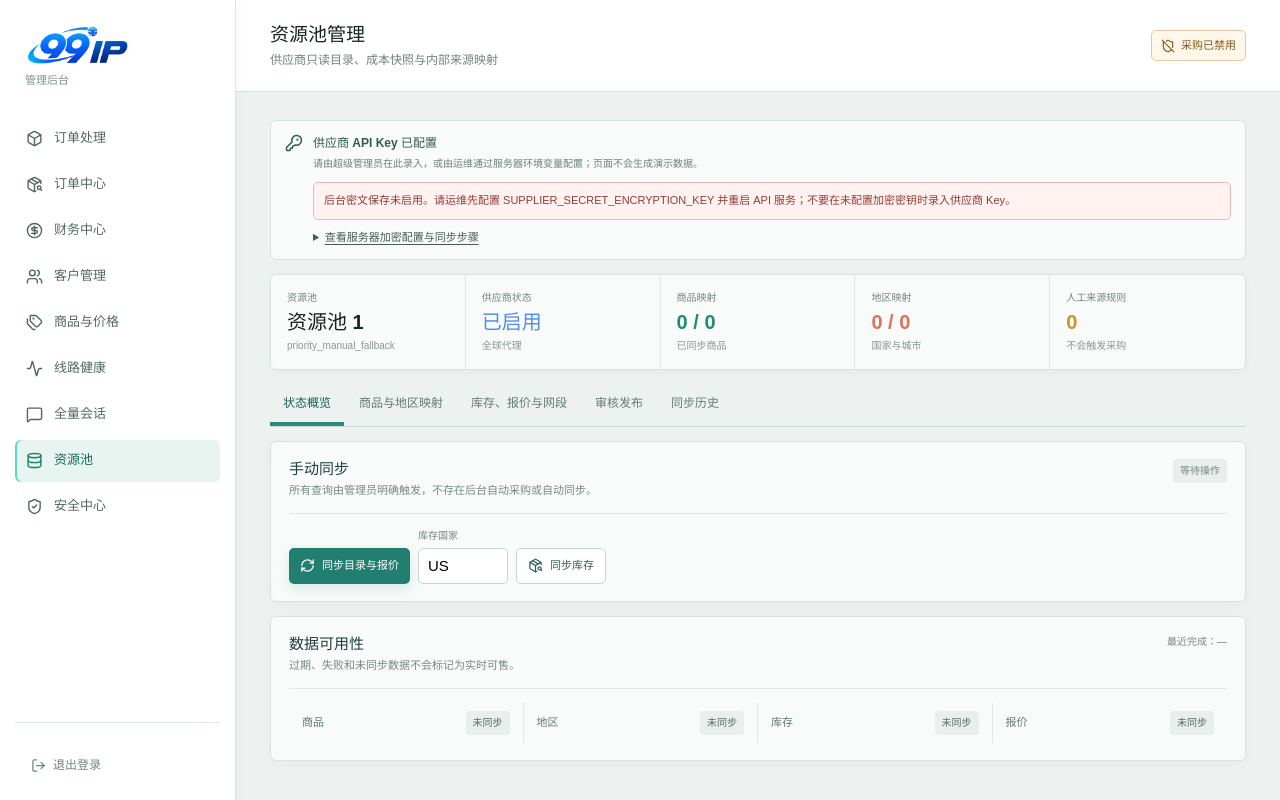
Test: 管理员资源池工作台 › 目录同步存在单项失败时反馈部分失败并保留重试入口
The width and height of the screenshot is (1280, 800).
Click the button "同步目录与报价" at coordinates (350, 566), box left=289, top=548, right=410, bottom=584
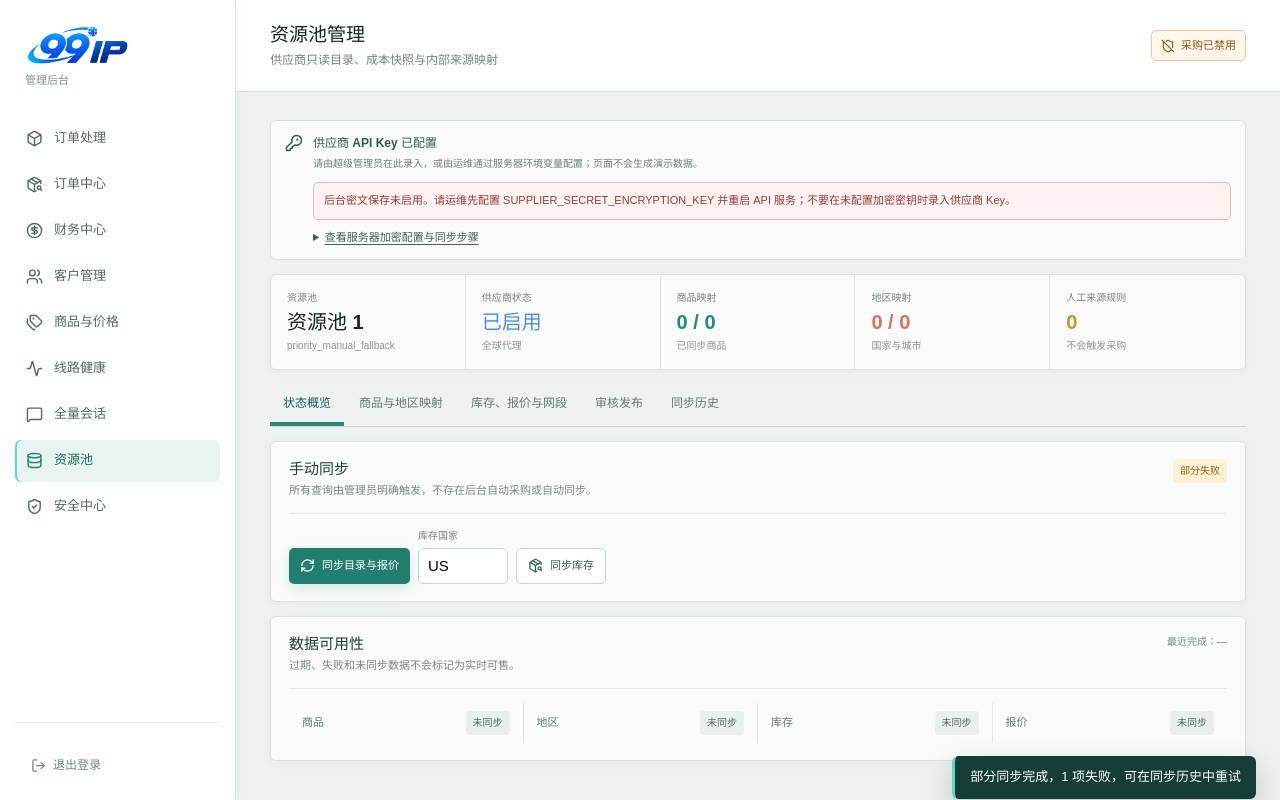
Result: the text "部分同步完成" is shown at left=970, top=769, right=1241, bottom=784
